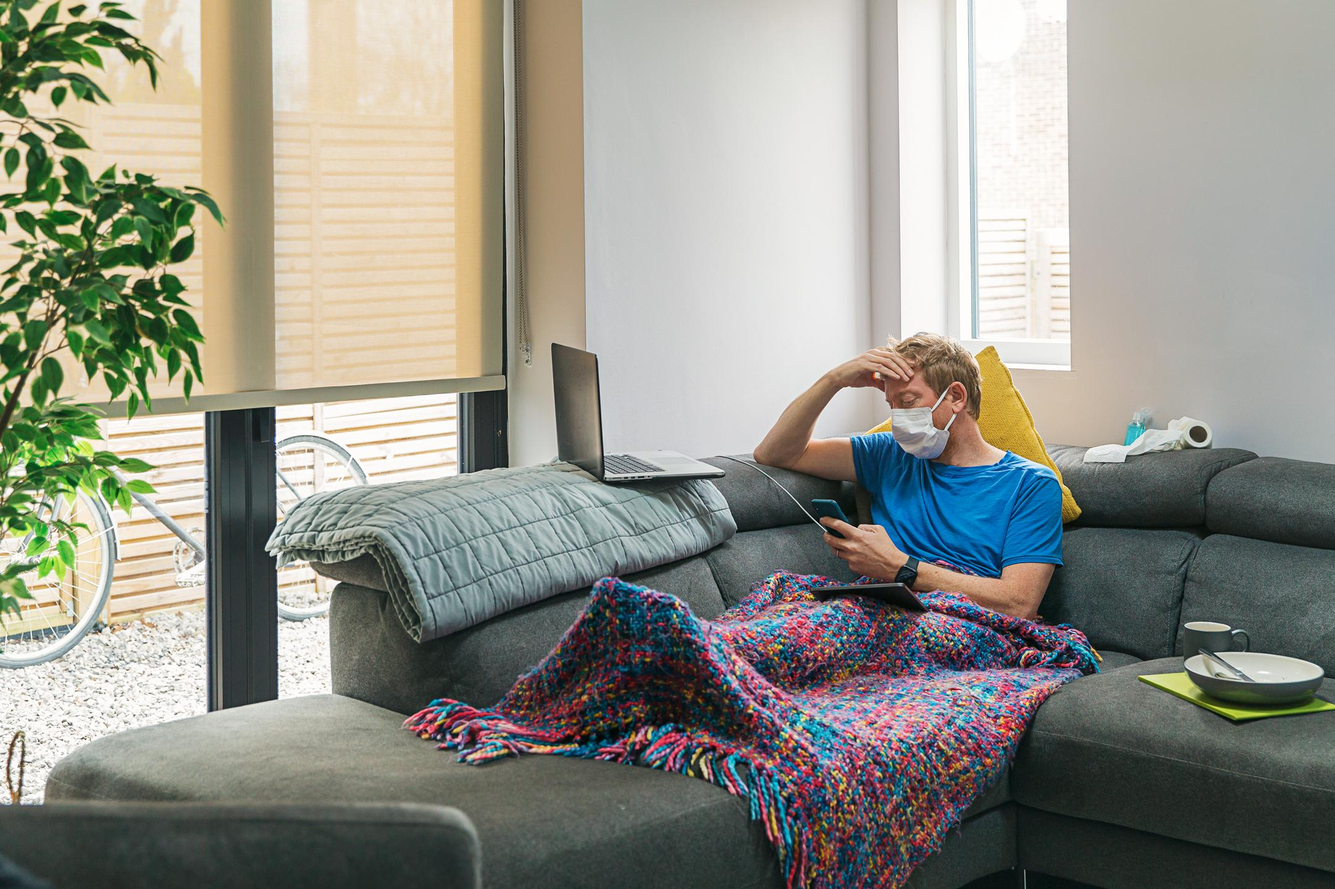OK: (889, 379, 954, 463)
